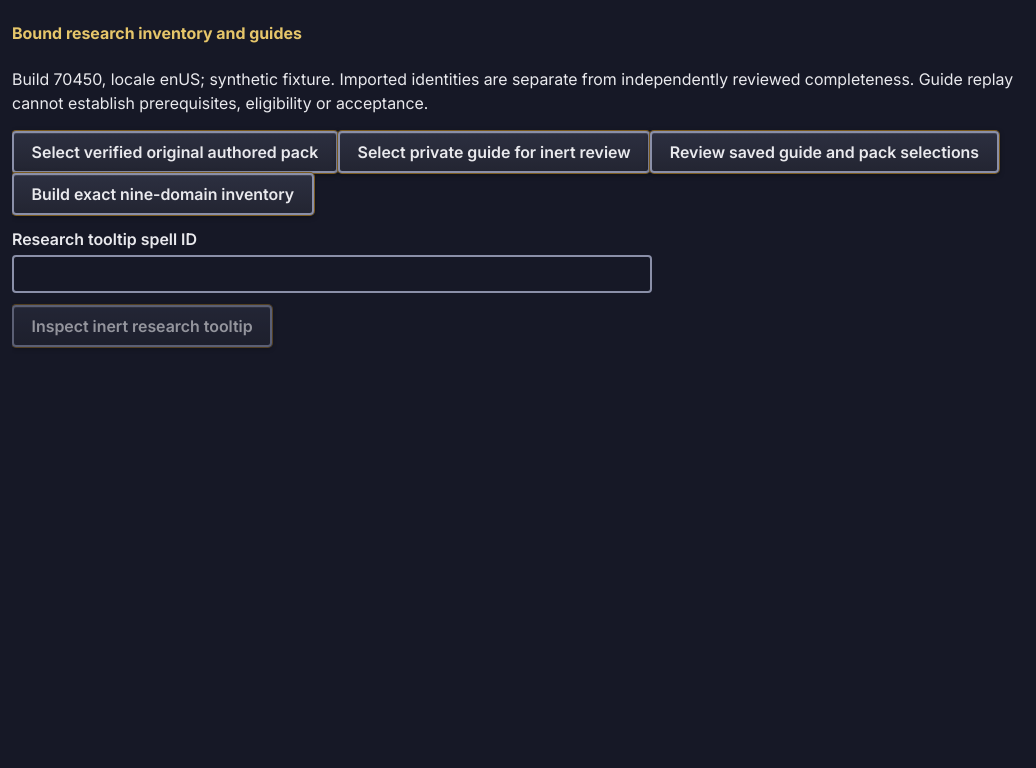
Test: shows exact IDs while preserving unavailable source and unknown independent completeness
Click the button "Build exact nine-domain inventory" at (163, 194), box top-left (12, 173), bottom-right (314, 215)
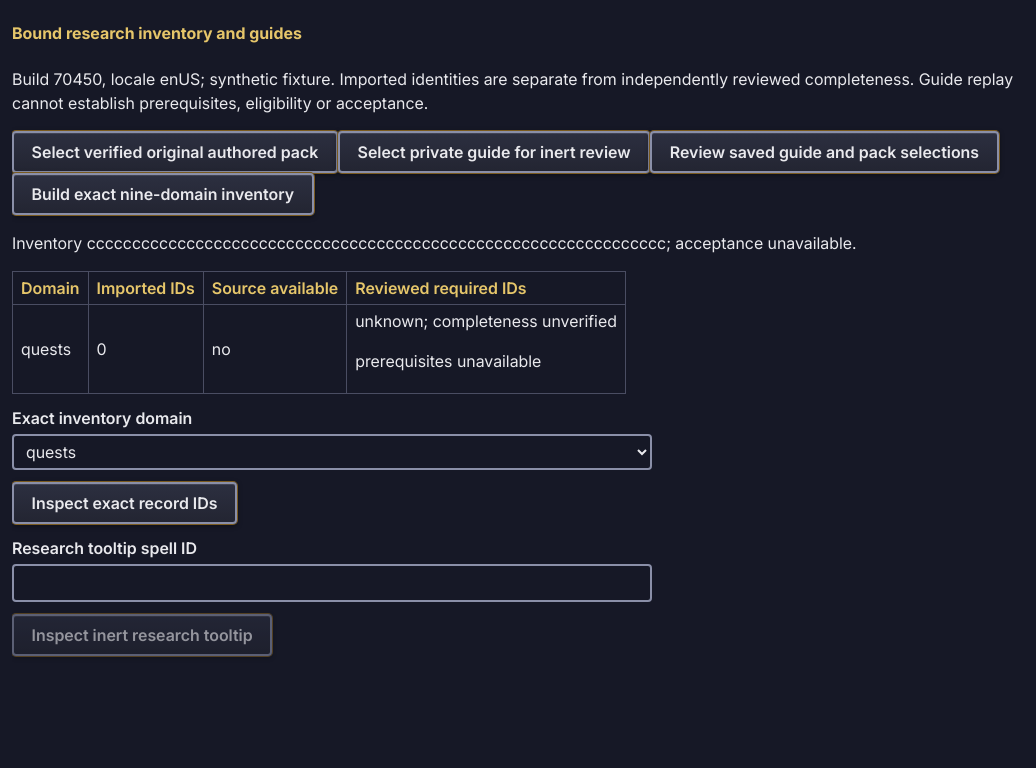
Expected: the row "quests 0 no unknown" is shown, top-left (12, 305), bottom-right (625, 394)
Click the button "Inspect exact record IDs" at (124, 503), box top-left (12, 482), bottom-right (237, 524)
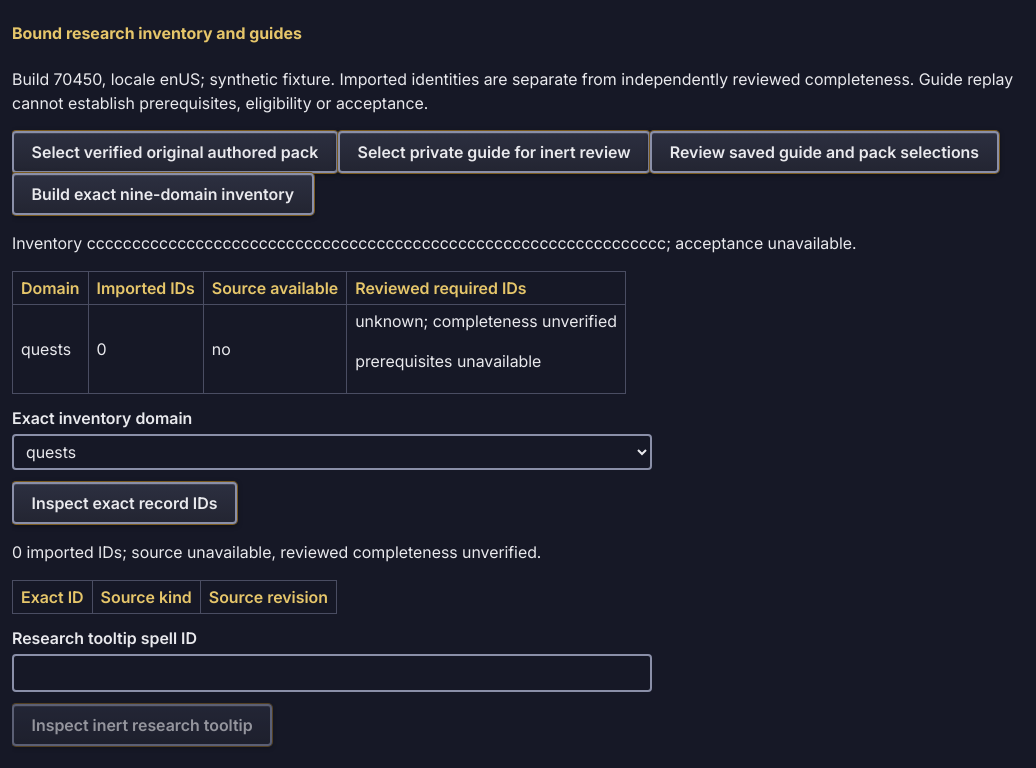
Expected: the text "0 imported IDs; source unavailable" is shown, top-left (12, 542), bottom-right (541, 562)
